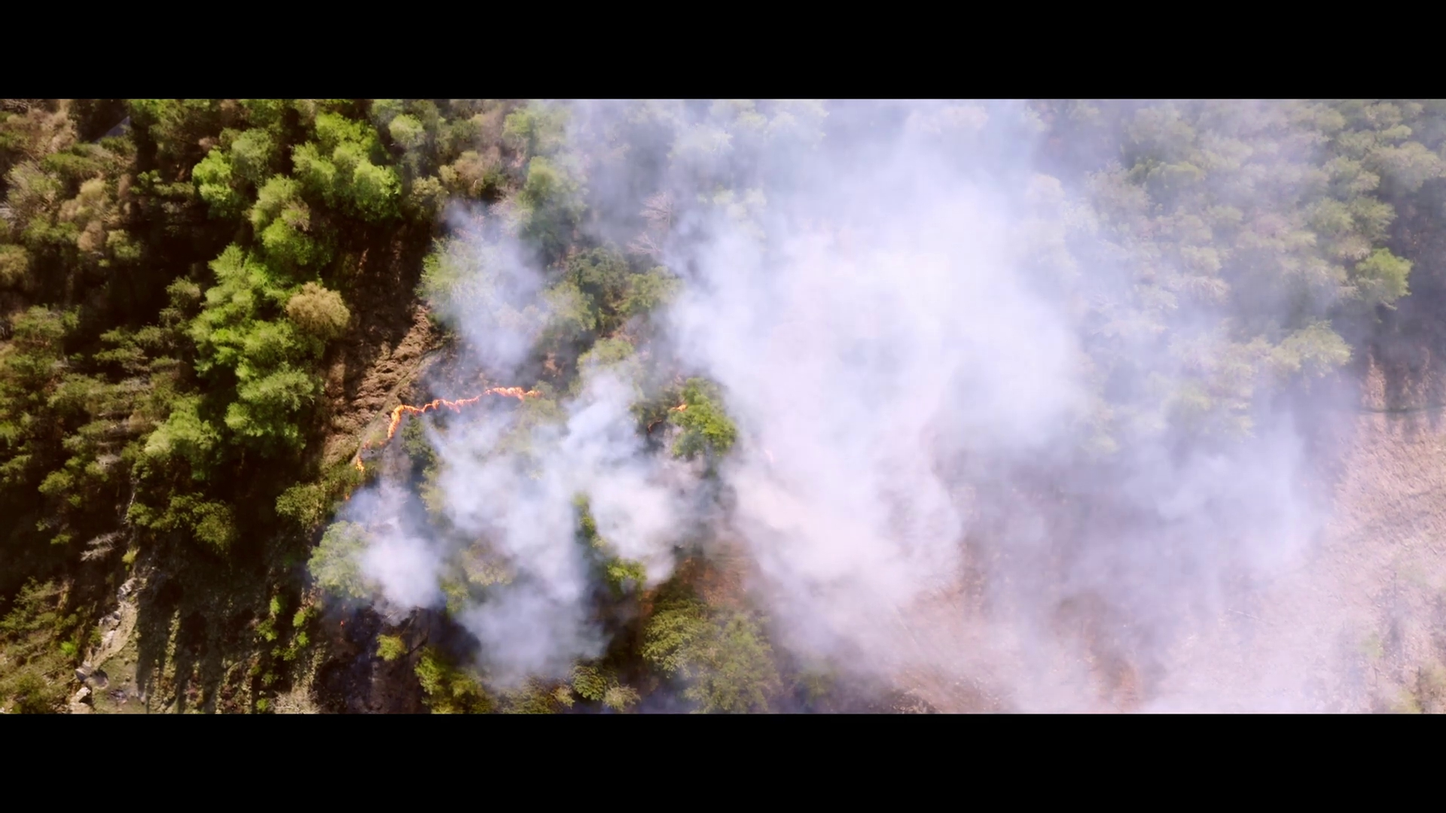forest_fire: (386, 387, 539, 441), (355, 452, 364, 468)
